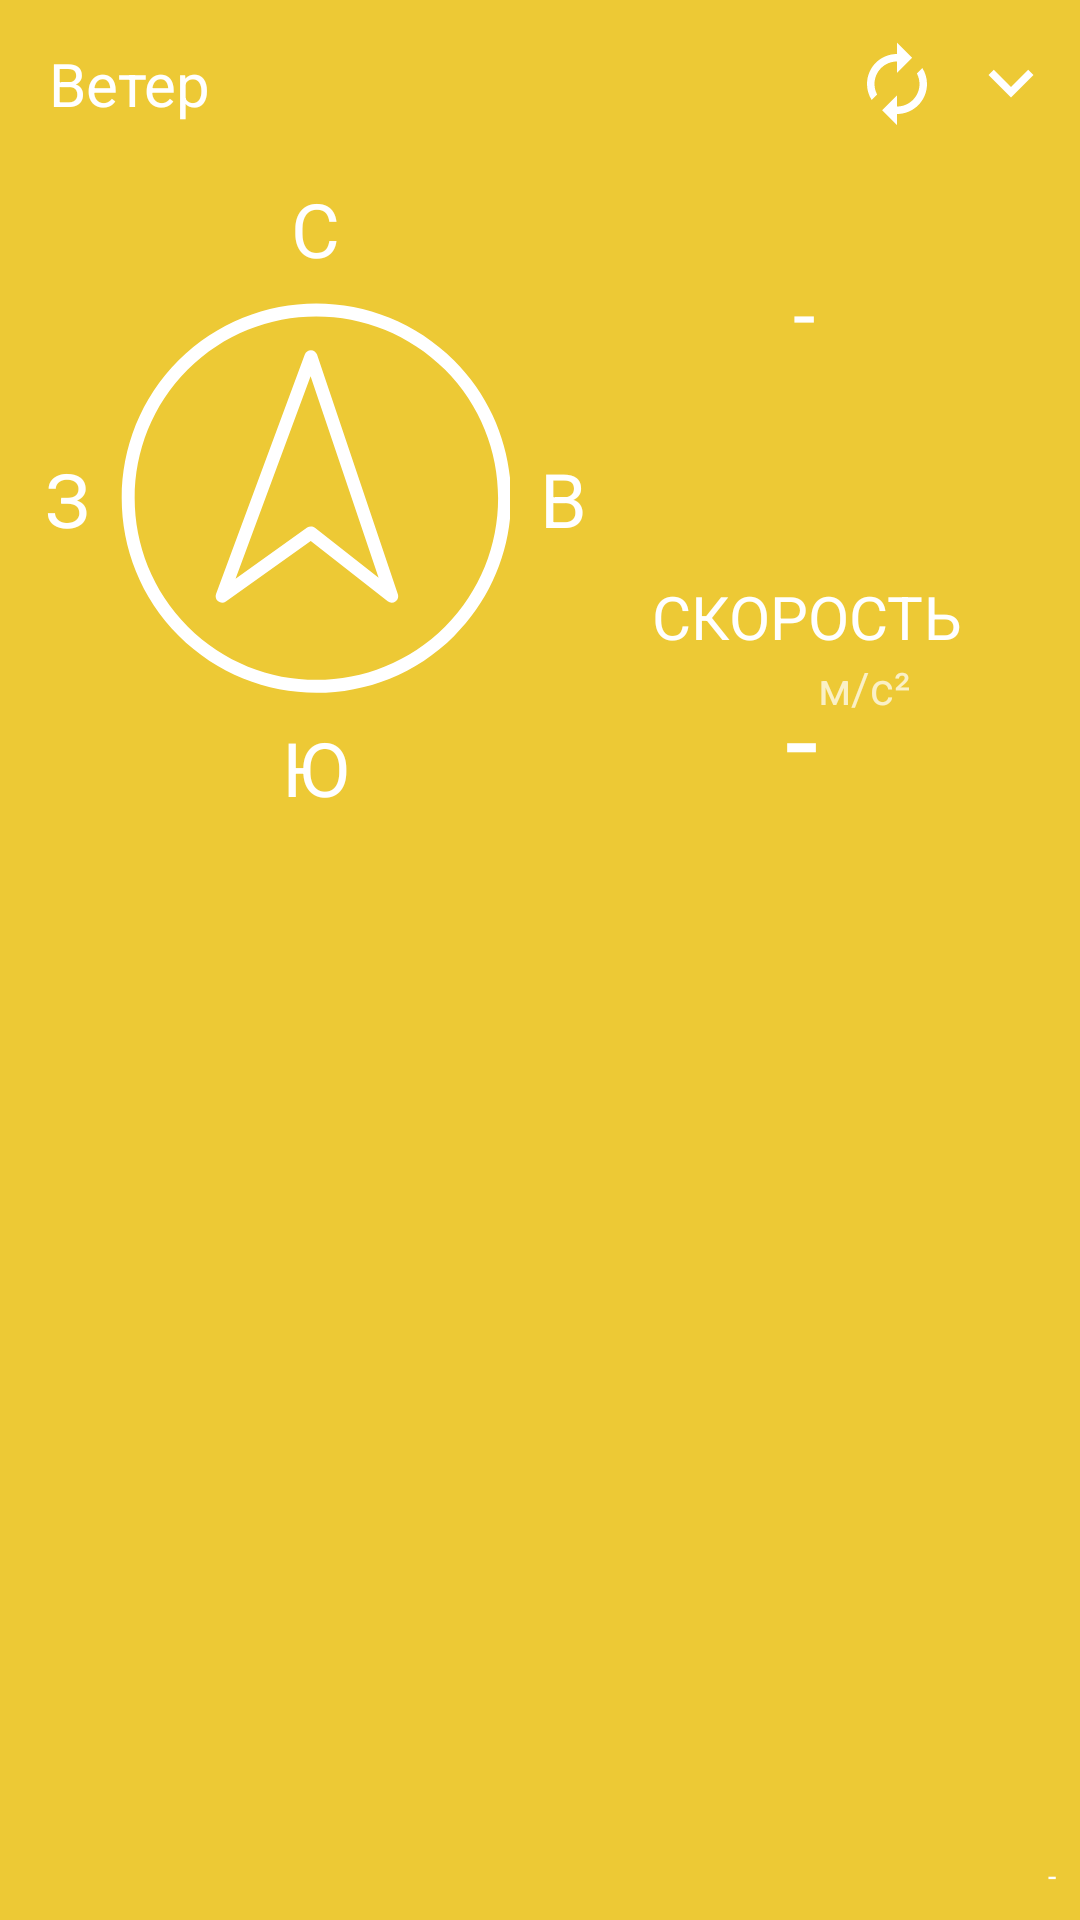

Point at icon controls on the screen. Image size 1080w x 1920h, points as point (x, y).
arrow down: point (1011, 84)
autorenew: point (897, 84)
